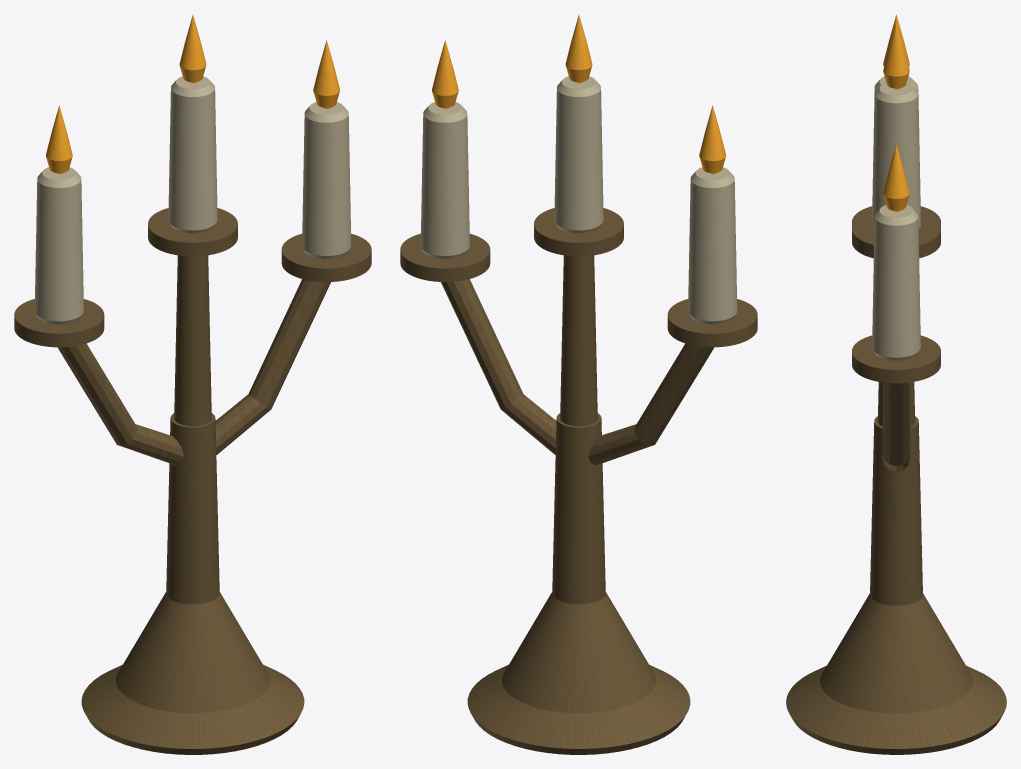
File: light_com_candle_10_64.dae
3 views of the same model, side by side, from view 1: azimuth 30°, elevation 25°; view 2: azimuth 150°, elevation 25°; view 3: azimuth 270°, elevation 25° (orthographic).
Visible parts, largest first — view 1: bronze, wax, flame; view 2: bronze, wax, flame; view 3: bronze, wax, flame.
Part boxes in pixels (bbox=[...]): bronze: bbox=[14, 208, 371, 754]; wax: bbox=[34, 76, 351, 324]; flame: bbox=[46, 15, 339, 174]; bronze: bbox=[400, 208, 757, 754]; wax: bbox=[420, 76, 737, 324]; flame: bbox=[432, 15, 725, 174]; bronze: bbox=[786, 206, 1006, 754]; wax: bbox=[872, 76, 920, 360]; flame: bbox=[883, 14, 909, 211].
Size of the model in its own units: 18.6 by 10.4 by 35.81.
